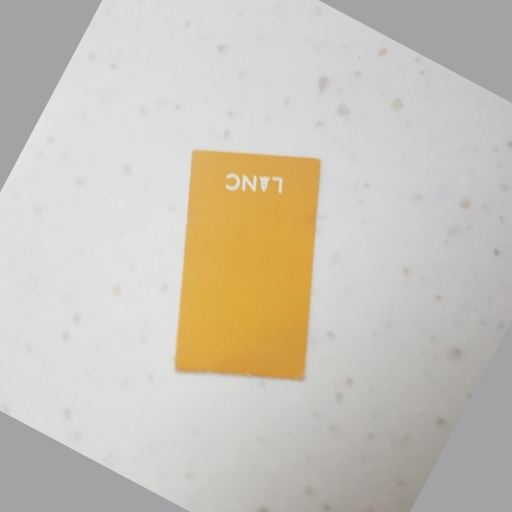Paper_2: (170, 145, 327, 384)
